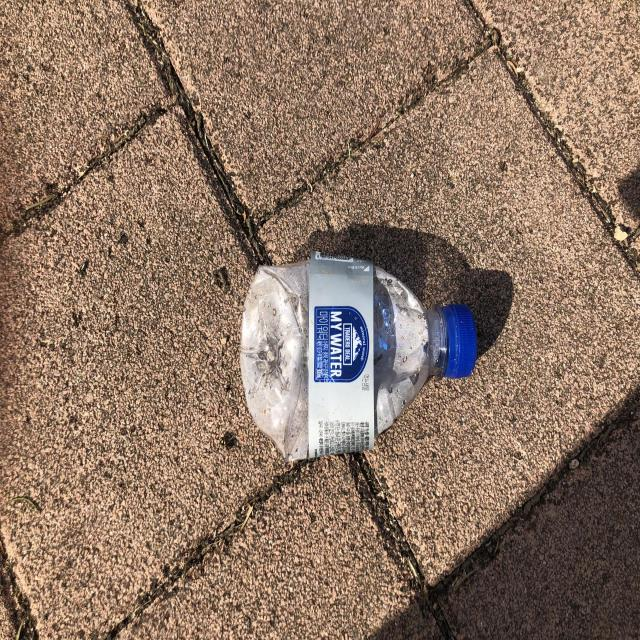plastic: (240, 252, 476, 461)
